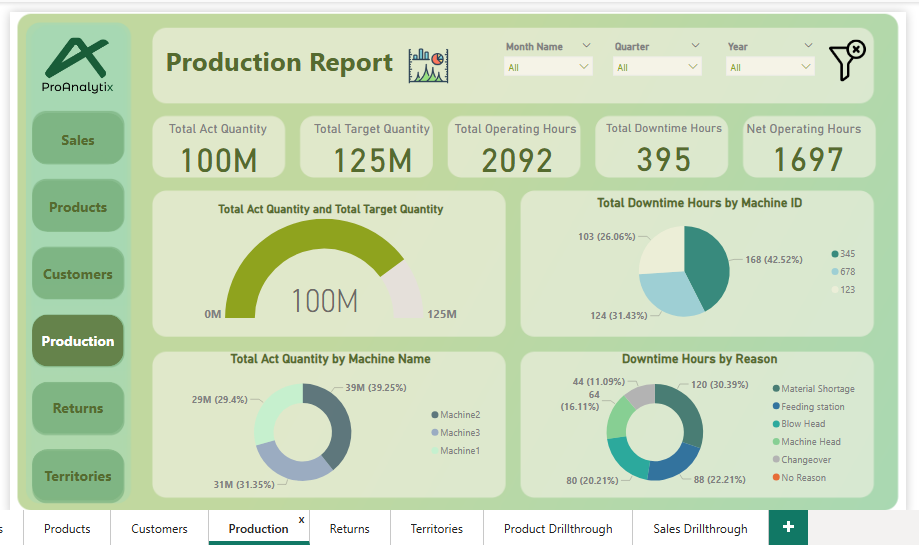

What the dashboard file says about the page in this screenshot:
{"tool":"powerbi","page":{"name":"Production","canvas":[1280,720],"ordinal":3},"visuals":[{"type":"card","title":"Total Act Quantity","fields":{"Values":["_Measures 1.Total Act Quantity"]},"box":[204.1,155.9,185.7,78],"z":0},{"type":"card","title":"Total Target Quantity","fields":{"Values":["_Measures 1.Total Target Quantity"]},"box":[423.8,155.9,185.7,78],"z":1000},{"type":"card","title":"Total Operating Hours","fields":{"Values":["_Measures 1.Lot Total Operating Hours"]},"box":[630.7,155.9,188.5,78],"z":2000},{"type":"card","title":"Total Downtime Hours","fields":{"Values":["_Measures 1.Total Downtime Hours"]},"box":[841.9,155.9,185.7,78],"z":3000},{"type":"card","title":"Net Operating Hours","fields":{"Values":["_Measures 1.Net Operating Hours"]},"box":[1047.4,155.9,184.3,76.5],"z":4000},{"type":"gauge","fields":{"Y":["_Measures 1.Total Act Quantity"],"MaxValue":["_Measures 1.Total Target Quantity"]},"box":[229.6,272.1,456.4,175.7],"z":5000},{"type":"donutChart","title":"Downtime Hours by Reason","fields":{"Category":["Production Lots.Down time Reason"],"Y":["_Measures 1.Total Downtime Hours"]},"box":[748.3,484.7,473.4,211.2],"z":6000},{"type":"donutChart","fields":{"Category":["Machines_List.Machine Name"],"Y":["_Measures 1.Total Act Quantity"]},"box":[229.6,484.7,456.4,211.2],"z":7000},{"type":"pieChart","fields":{"Category":["Machines_List.Machine ID"],"Y":["_Measures 1.Total Downtime Hours"]},"box":[748.3,260.8,473.4,197],"z":8000},{"type":"slicer","fields":{"Values":["Calendar.Year"]},"box":[1012.9,35,147.1,92.9],"z":9000},{"type":"slicer","fields":{"Values":["Calendar.Quarter"]},"box":[851.4,35,147.1,92.9],"z":10000},{"type":"slicer","fields":{"Values":["Calendar.Month Name"]},"box":[695.7,35,147.1,92.9],"z":11000},{"type":"pageNavigator","box":[31,144.3,131,556],"z":12000},{"type":"image","box":[28.3,31.2,134.6,90.7],"z":13000},{"type":"image","box":[1160.8,34,70,70],"z":15000},{"type":"image","box":[564.1,39.7,66.6,73.7],"z":16000},{"type":"textbox","box":[216.9,39,345.8,80.8],"z":17000}]}

Visuals, with their boxes on the page's 1280x720 design canvas (x1, y1, x2, y2). These are canvas units, not pixel positions in the 919x545 screenshot, which may show the page scaled, cropped or inside an application window:
"Total Act Quantity" card: {"x1": 204, "y1": 156, "x2": 390, "y2": 234}
"Total Target Quantity" card: {"x1": 424, "y1": 156, "x2": 610, "y2": 234}
"Total Operating Hours" card: {"x1": 631, "y1": 156, "x2": 819, "y2": 234}
"Total Downtime Hours" card: {"x1": 842, "y1": 156, "x2": 1028, "y2": 234}
"Net Operating Hours" card: {"x1": 1047, "y1": 156, "x2": 1232, "y2": 232}
gauge - _Measures 1.Total Act Quantity x _Measures 1.Total Target Quantity: {"x1": 230, "y1": 272, "x2": 686, "y2": 448}
"Downtime Hours by Reason" donutChart: {"x1": 748, "y1": 485, "x2": 1222, "y2": 696}
donutChart - Machines_List.Machine Name x _Measures 1.Total Act Quantity: {"x1": 230, "y1": 485, "x2": 686, "y2": 696}
pieChart - Machines_List.Machine ID x _Measures 1.Total Downtime Hours: {"x1": 748, "y1": 261, "x2": 1222, "y2": 458}
slicer - Calendar.Year: {"x1": 1013, "y1": 35, "x2": 1160, "y2": 128}
slicer - Calendar.Quarter: {"x1": 851, "y1": 35, "x2": 998, "y2": 128}
slicer - Calendar.Month Name: {"x1": 696, "y1": 35, "x2": 843, "y2": 128}
pageNavigator: {"x1": 31, "y1": 144, "x2": 162, "y2": 700}
image: {"x1": 28, "y1": 31, "x2": 163, "y2": 122}
image: {"x1": 1161, "y1": 34, "x2": 1231, "y2": 104}
image: {"x1": 564, "y1": 40, "x2": 631, "y2": 113}
textbox: {"x1": 217, "y1": 39, "x2": 563, "y2": 120}
